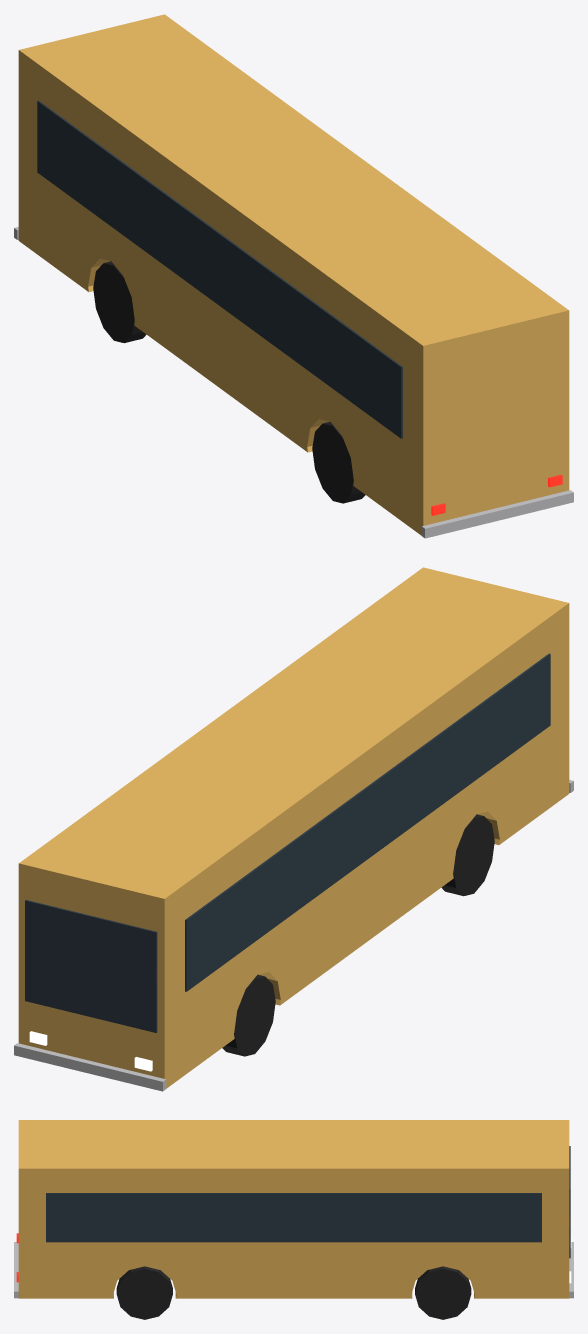
The model's file is bus.glb.
3 views of the same model, one above another, from view 1: azimuth 30°, elevation 25°; view 2: azimuth 150°, elevation 25°; view 3: azimuth 270°, elevation 25° (orthographic). The views are drawn at different scales.
Visible parts, largest first — view 1: body, windows_l, WHEEL_RL, WHEEL_FL, bumper_r; view 2: body, windows_l, windscreen, WHEEL_FL, WHEEL_RL, bumper_f; view 3: body, windows_r, WHEEL_FR, WHEEL_RR.
Boxes of the visible parts, x1=… form: body: x1=18, y1=14, x2=569, y2=535; windows_l: x1=37, y1=100, x2=402, y2=438; WHEEL_RL: x1=312, y1=421, x2=365, y2=503; WHEEL_FL: x1=93, y1=261, x2=146, y2=343; bumper_r: x1=421, y1=490, x2=573, y2=538; body: x1=18, y1=567, x2=569, y2=1088; windows_l: x1=185, y1=653, x2=550, y2=991; windscreen: x1=25, y1=900, x2=157, y2=1032; WHEEL_FL: x1=222, y1=974, x2=275, y2=1056; WHEEL_RL: x1=441, y1=814, x2=494, y2=896; bumper_f: x1=14, y1=1043, x2=166, y2=1091; body: x1=18, y1=1120, x2=569, y2=1298; windows_r: x1=46, y1=1193, x2=541, y2=1242; WHEEL_FR: x1=415, y1=1266, x2=471, y2=1319; WHEEL_RR: x1=116, y1=1266, x2=172, y2=1319.
Size of the model in its own units: 2.56 by 3.66 by 12.2.
